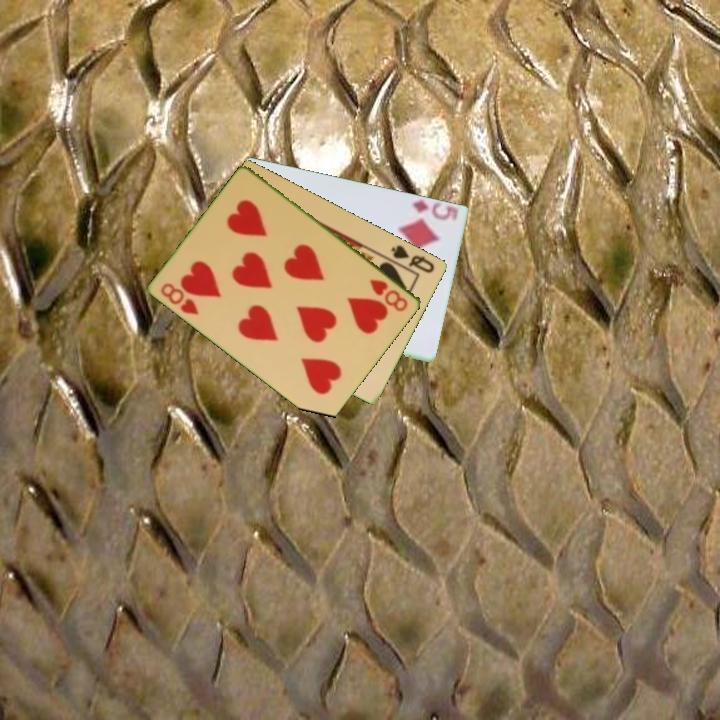5d: (408, 196, 459, 223)
8h: (157, 279, 202, 318), (367, 276, 411, 314)
Qs: (388, 241, 438, 276)
